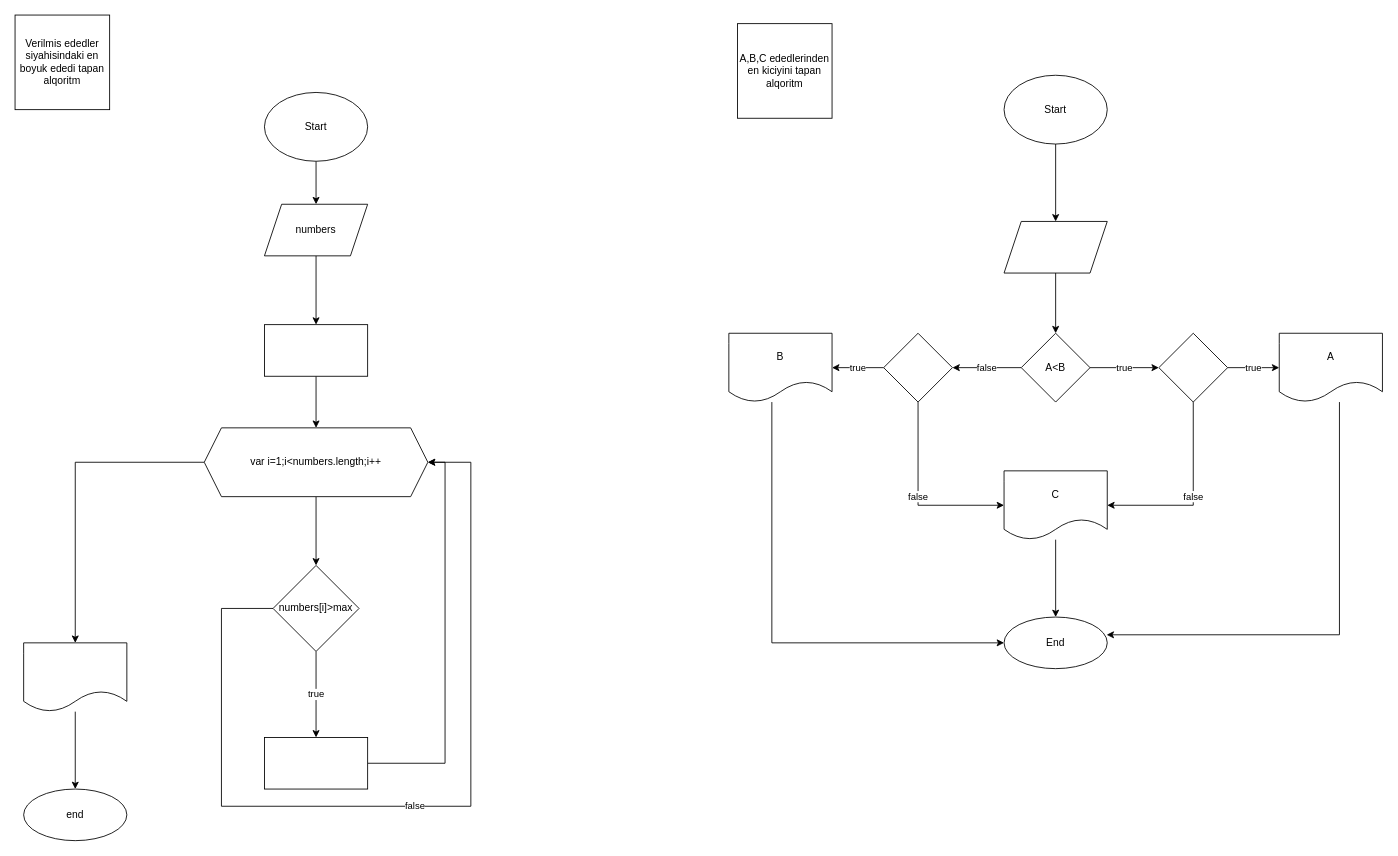
The diagram is 1398 pixels wide and 856 high, and some of its shapes have lost their labels. The shapes that lost their labels are listed below. From the top down, each one's box as (x1, y1, x2, y2) in pixels, then its label:
(1003, 221, 1107, 273): A,B,C
(264, 324, 368, 376): max=numbers[0]
(883, 332, 952, 402): B<C
(1158, 332, 1228, 402): A<C
(23, 642, 127, 712): max
(264, 737, 368, 789): max=numbers[i]
